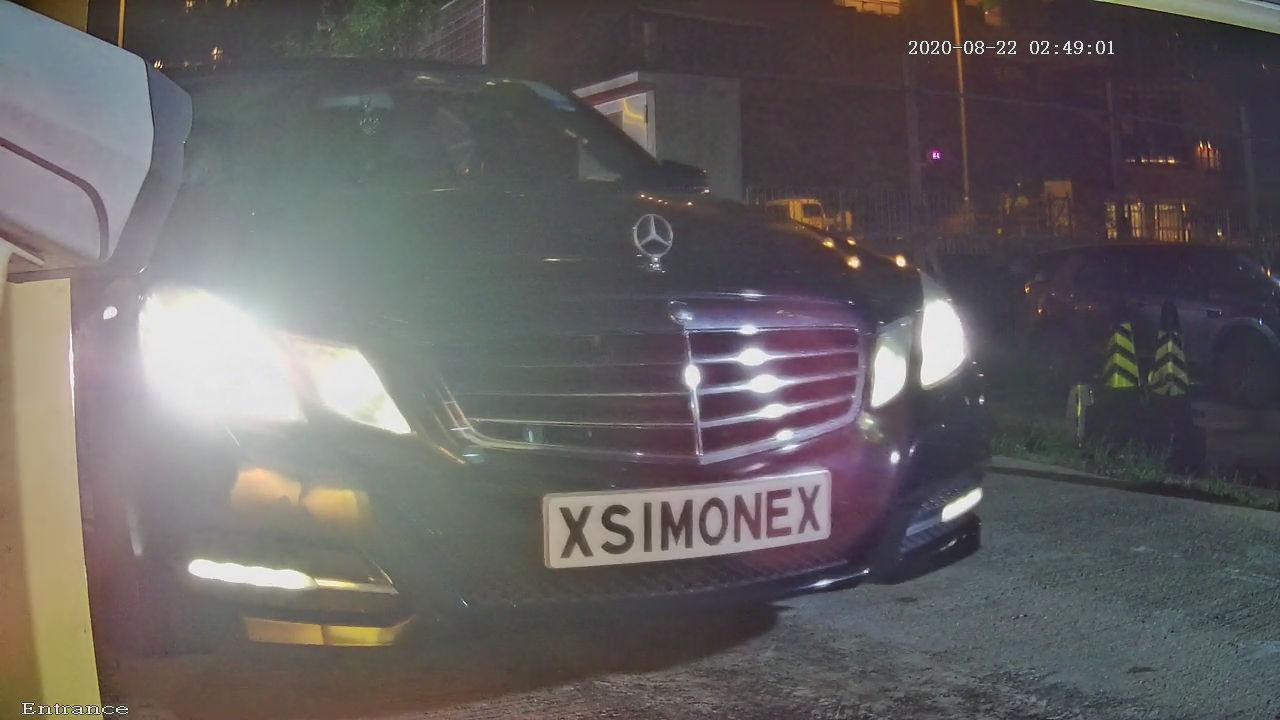License Plate: (500, 457, 873, 586)
